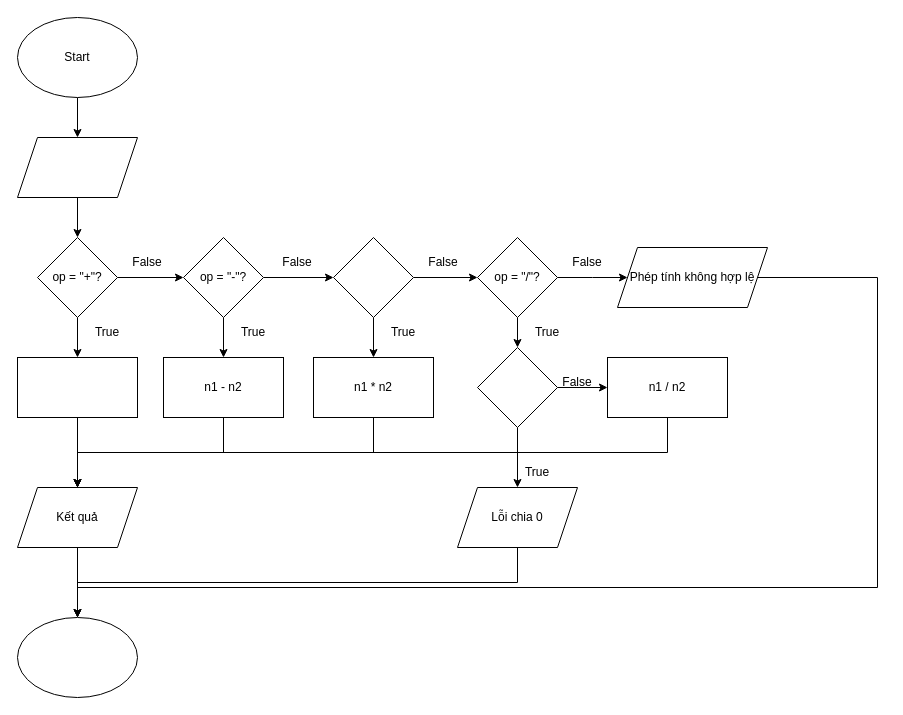
Some shapes in this 903 by 715 pixel diagram are drawn without their labels. Each missing label, with the centre of its shape:
End: point 77,657
n1 + n2: point 77,387
n2 = 0?: point 517,387
Nhập n1, n2, op: point 77,167
op = "*"?: point 373,277
